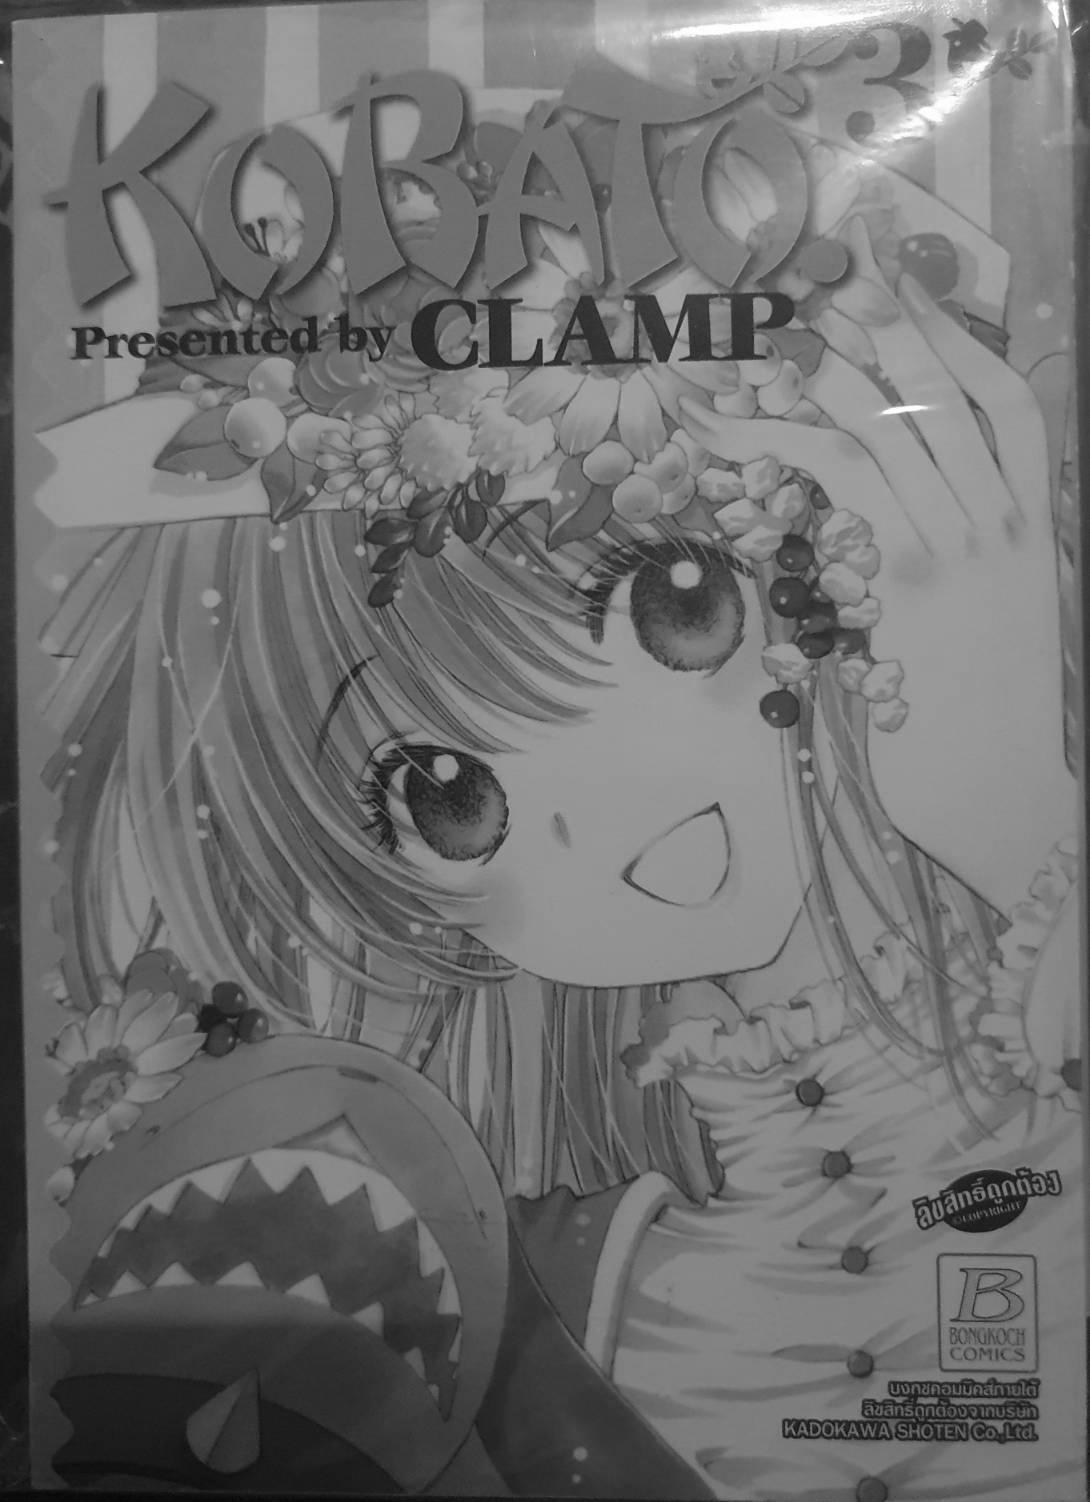LuckPim: (24, 24, 1054, 1479)
